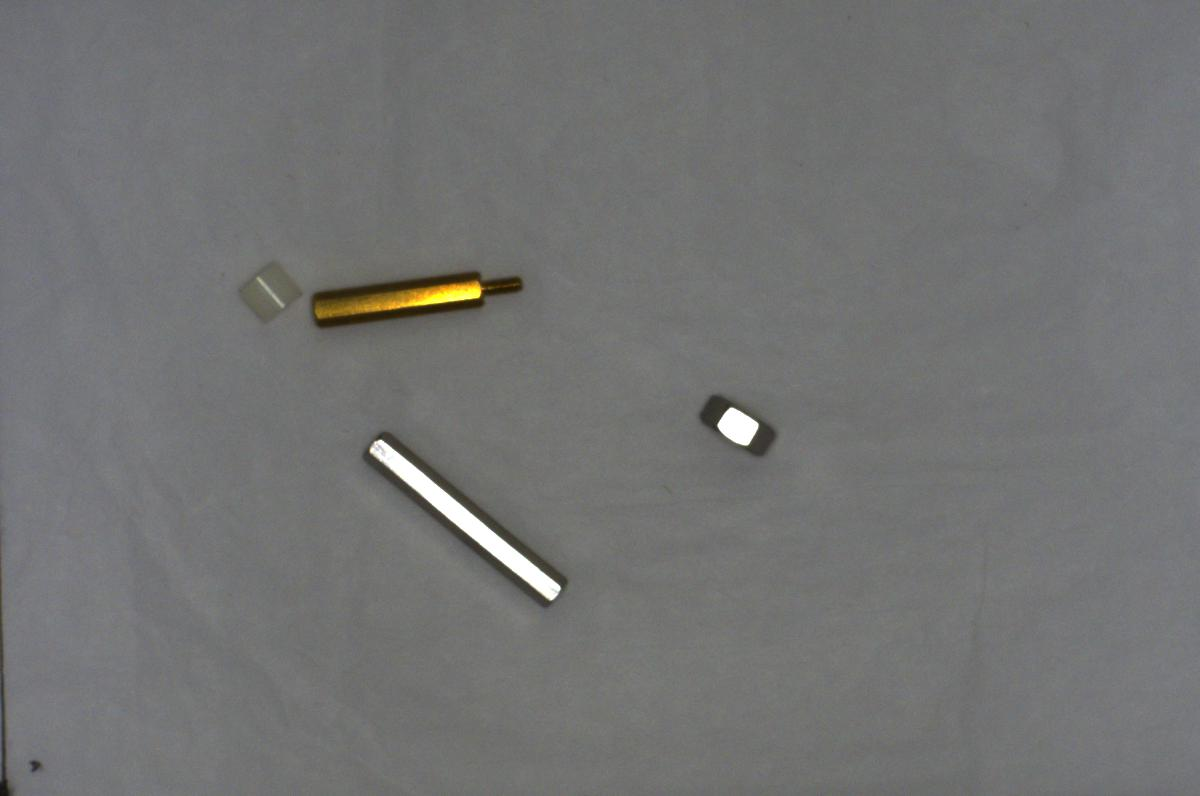Double hexagonal column: (359, 433, 574, 614)
Hexagon nut: (698, 383, 782, 467)
Hexagon pillar: (305, 255, 524, 336)
Plastic cushion pillar: (227, 253, 302, 325)
